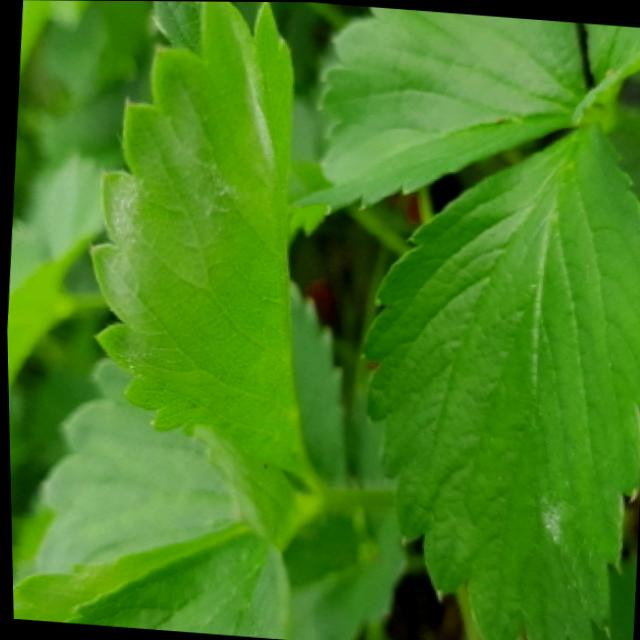Powdery Mildew Leaf: (358, 120, 640, 640), (84, 1, 323, 490)
